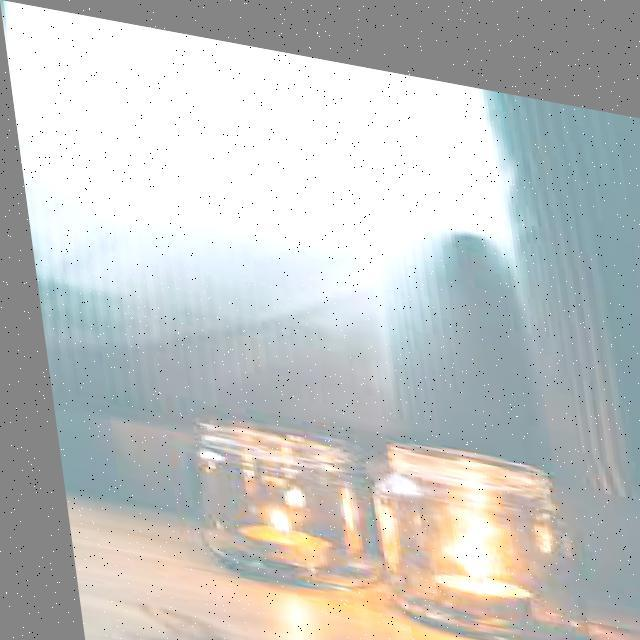Fire: (440, 518, 479, 558), (245, 490, 282, 526)
